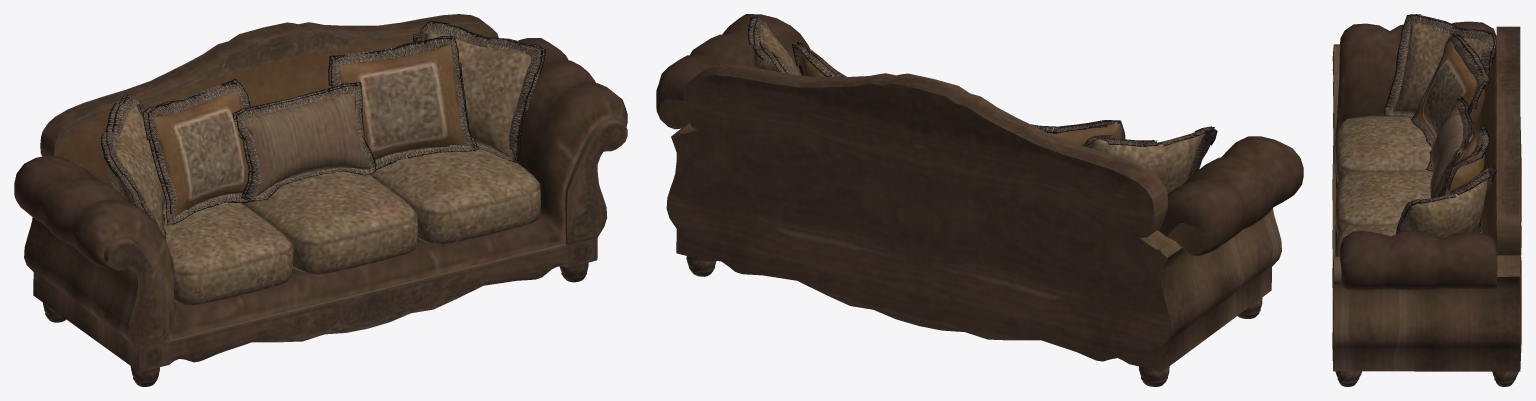
The model's file is sofa_03_1k.gltf.
3 renders of one model, left to right at view 1: azimuth 30°, elevation 25°; view 2: azimuth 150°, elevation 25°; view 3: azimuth 270°, elevation 25°, orthographic. The views are drawn at different scales.
Visible parts, largest first — view 1: sofa_03; view 2: sofa_03; view 3: sofa_03.
Part boxes in pixels (box(x1,y1,x2,y2)): sofa_03: box(14, 14, 627, 386); sofa_03: box(656, 14, 1303, 386); sofa_03: box(1332, 14, 1521, 386).
Size of the model in its own units: 2.73 by 1.12 by 0.9251.
2 materials, 2 textured.
